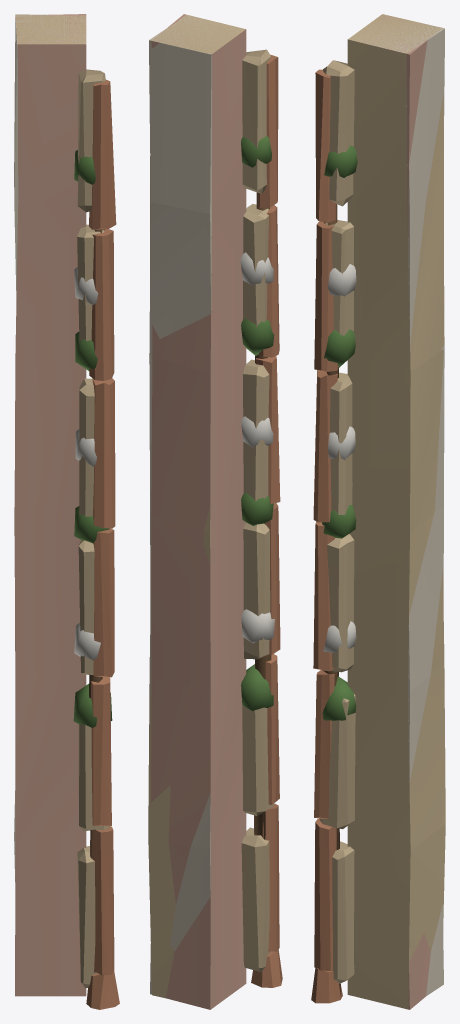
The model's file is corner.inner.glb.
3 views of the same model, side by side, from view 1: azimuth 90°, elevation 25°; view 2: azimuth 150°, elevation 25°; view 3: azimuth 330°, elevation 25° (orthographic).
Visible parts, largest first — view 1: corner.inner.v1.mesh, corner.inner.v0.mesh, corner.inner.v2.mesh; view 2: corner.inner.v1.mesh, corner.inner.v2.mesh, corner.inner.v0.mesh; view 3: corner.inner.v0.mesh, corner.inner.v2.mesh, corner.inner.v1.mesh.
Boxes of the visible parts, left/top/right/bottom form: corner.inner.v1.mesh: left=14, top=14, right=112, bottom=996; corner.inner.v0.mesh: left=14, top=15, right=119, bottom=1009; corner.inner.v2.mesh: left=14, top=14, right=108, bottom=987; corner.inner.v1.mesh: left=151, top=14, right=274, bottom=1009; corner.inner.v2.mesh: left=149, top=15, right=274, bottom=994; corner.inner.v0.mesh: left=148, top=15, right=282, bottom=998; corner.inner.v0.mesh: left=311, top=14, right=445, bottom=1009; corner.inner.v2.mesh: left=319, top=14, right=444, bottom=996; corner.inner.v1.mesh: left=322, top=14, right=440, bottom=1009.
Bounding box in the file's own units: 0.2996 × 3 × 0.3024.
